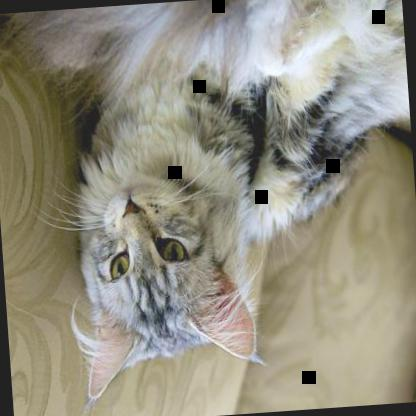cat: (15, 0, 415, 405)
